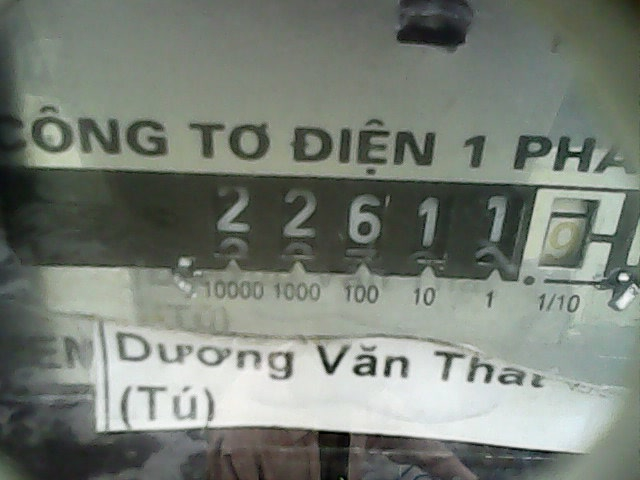phy_plate: (203, 168, 628, 304)
